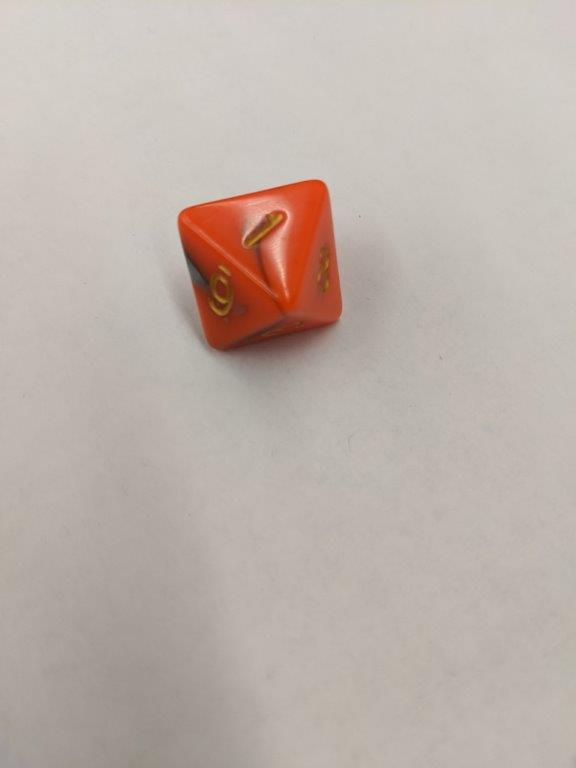d8-1: (177, 177, 342, 352)
